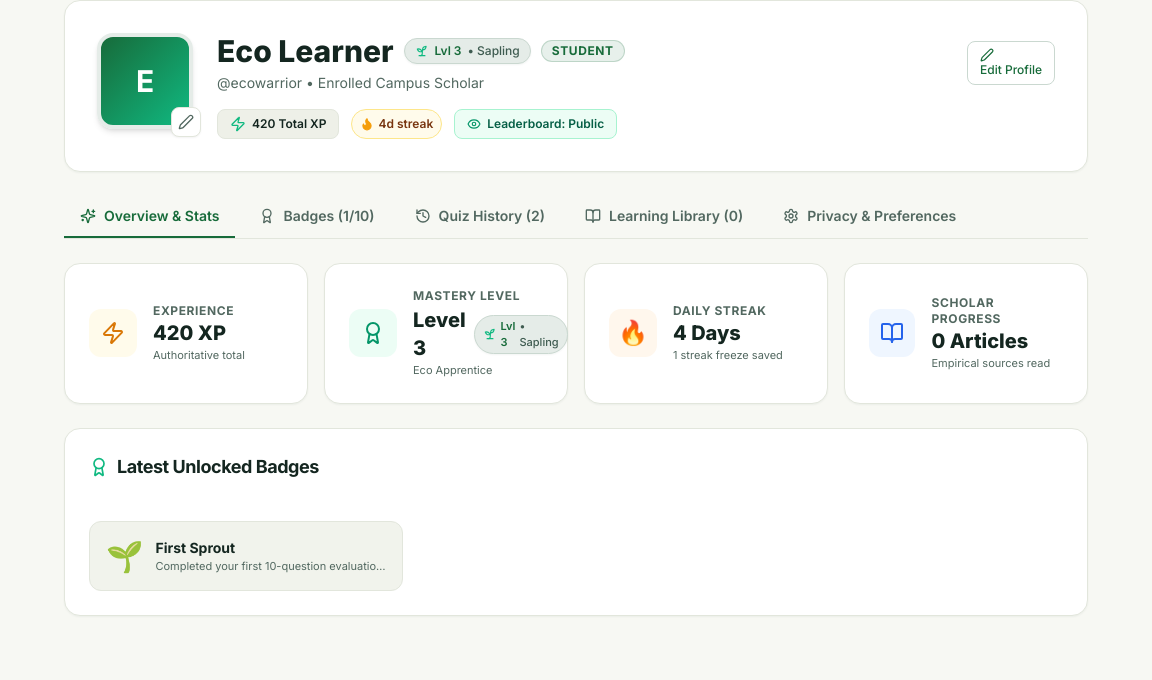
it: Stage 10: Content Library, Student Profiles & Administration › Student Profiles & Field Ownership › enforces field ownership: updateProfile only modifies permitted client fields
Expected: the heading "Eco Learner" is shown, [217,33,394,69]
Note: Click Edit Profile button
Click the button "Edit Profile" at [1011, 63], box [967,41,1055,85]
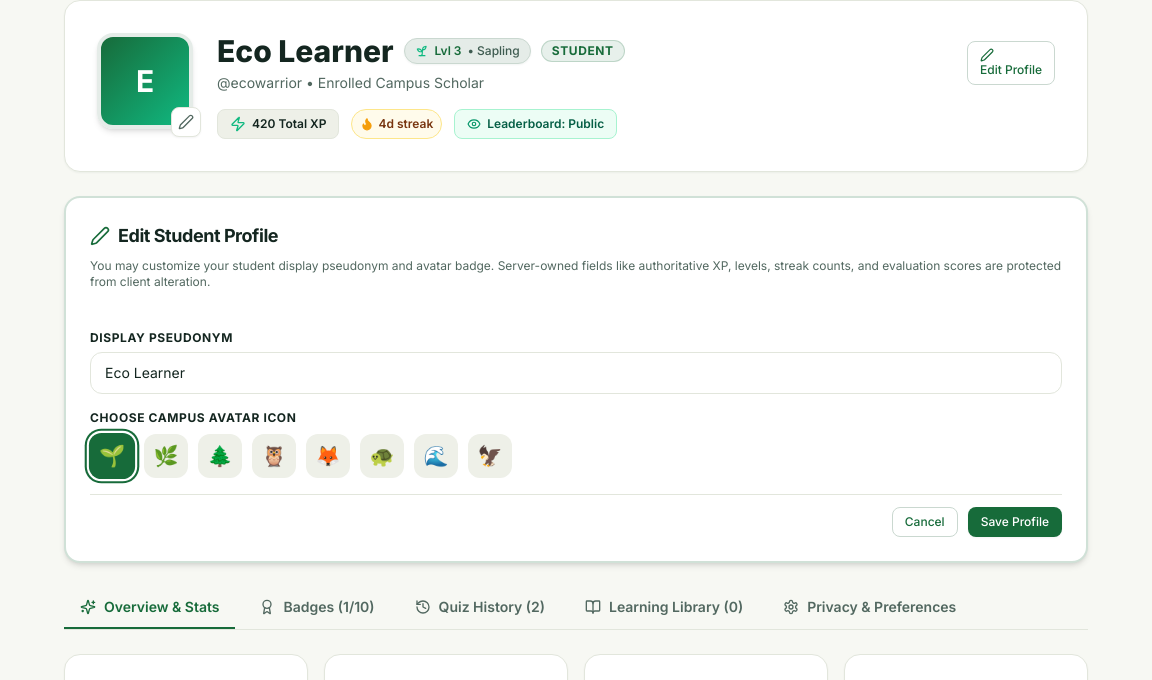
Note: Change pseudonym input
Replace the text in the field labelled "Display Pseudonym" with "River Ecologist" at [576, 373], box [90,352,1062,394]
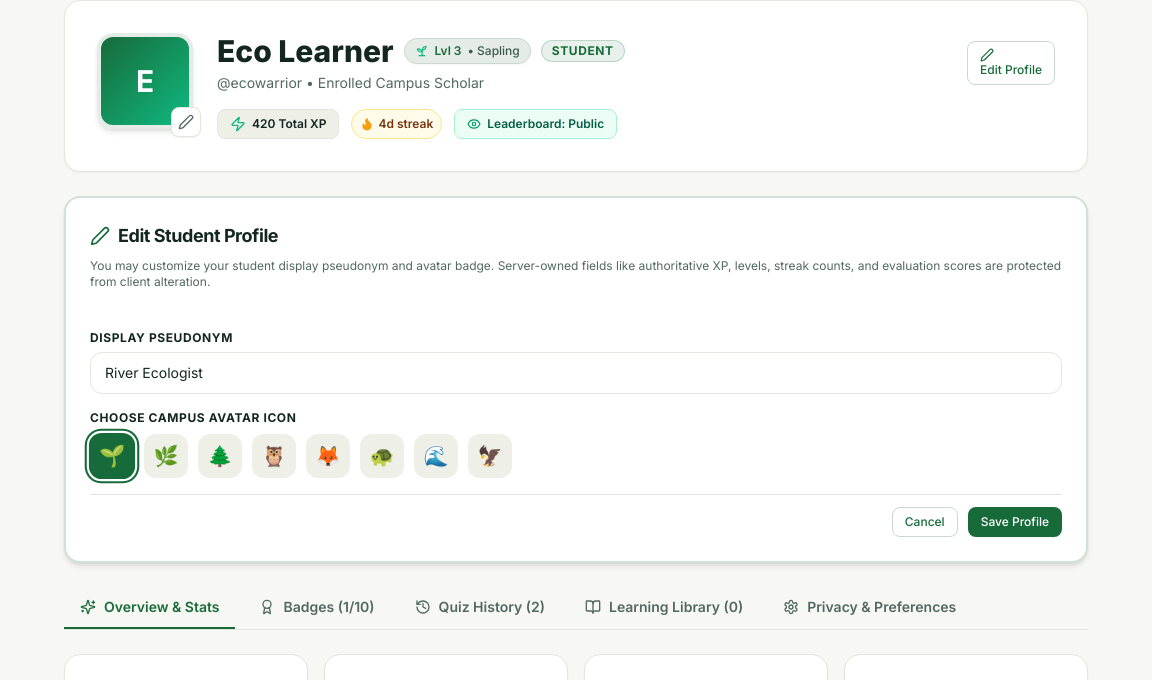
Note: Click Save Profile
Click the button "Save Profile" at [1015, 522], box [968,507,1062,537]
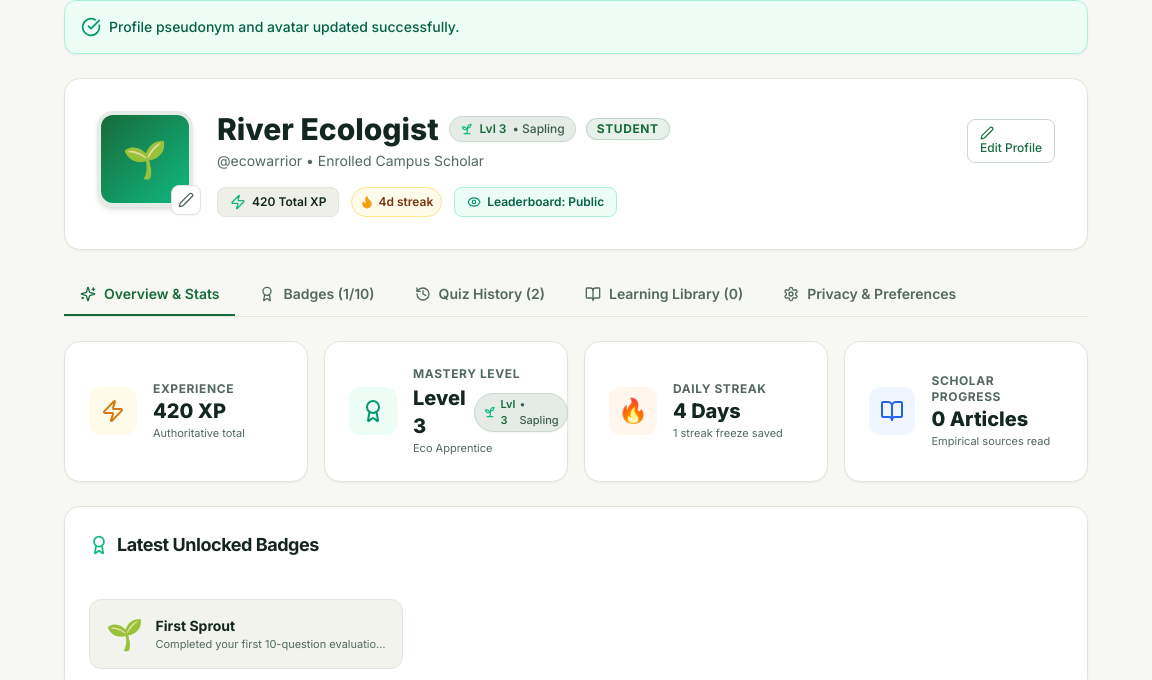
Now the heading "River Ecologist" is shown, box [217,111,439,147]
